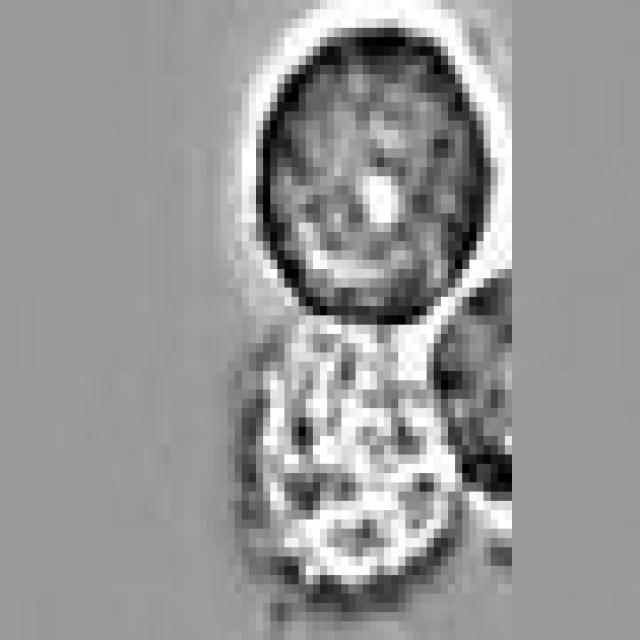Cancer Cell: (263, 18, 498, 324)
WBC: (249, 316, 469, 584), (434, 269, 533, 510)
